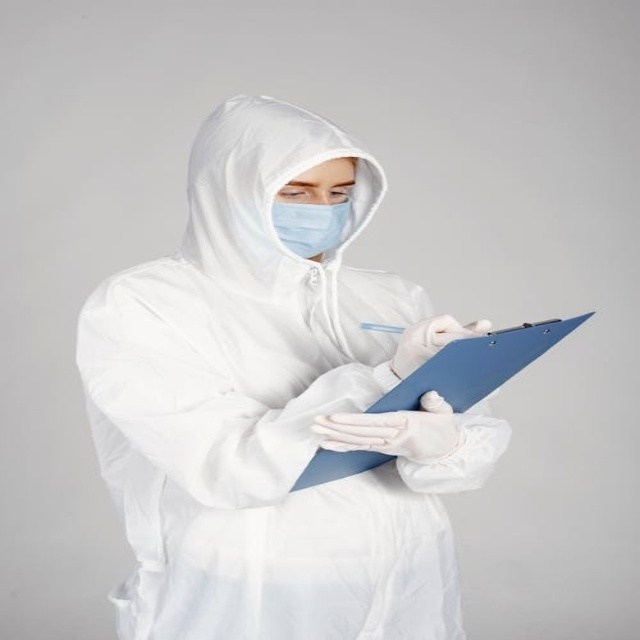Guantes: (314, 391, 466, 464), (386, 315, 493, 381)
Mascara: (269, 197, 351, 258)
Sin_gafas: (277, 187, 351, 204)
